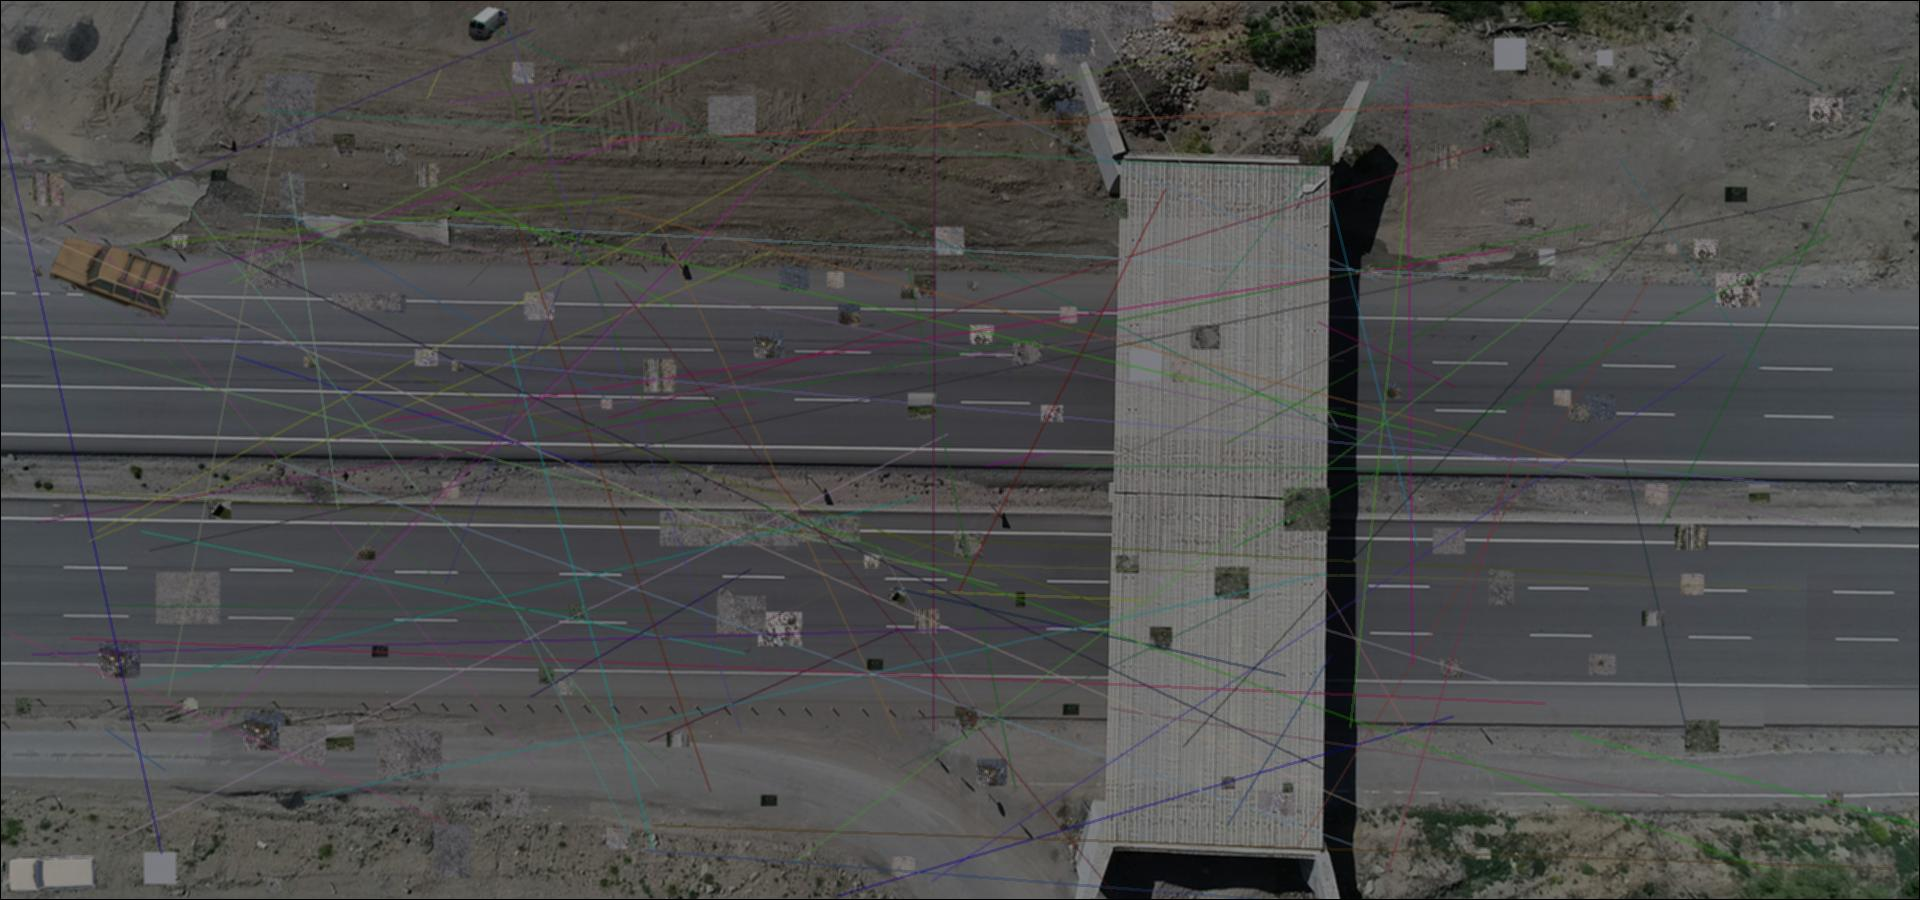arac: (49, 231, 182, 324), (5, 850, 98, 894), (469, 7, 508, 40)
